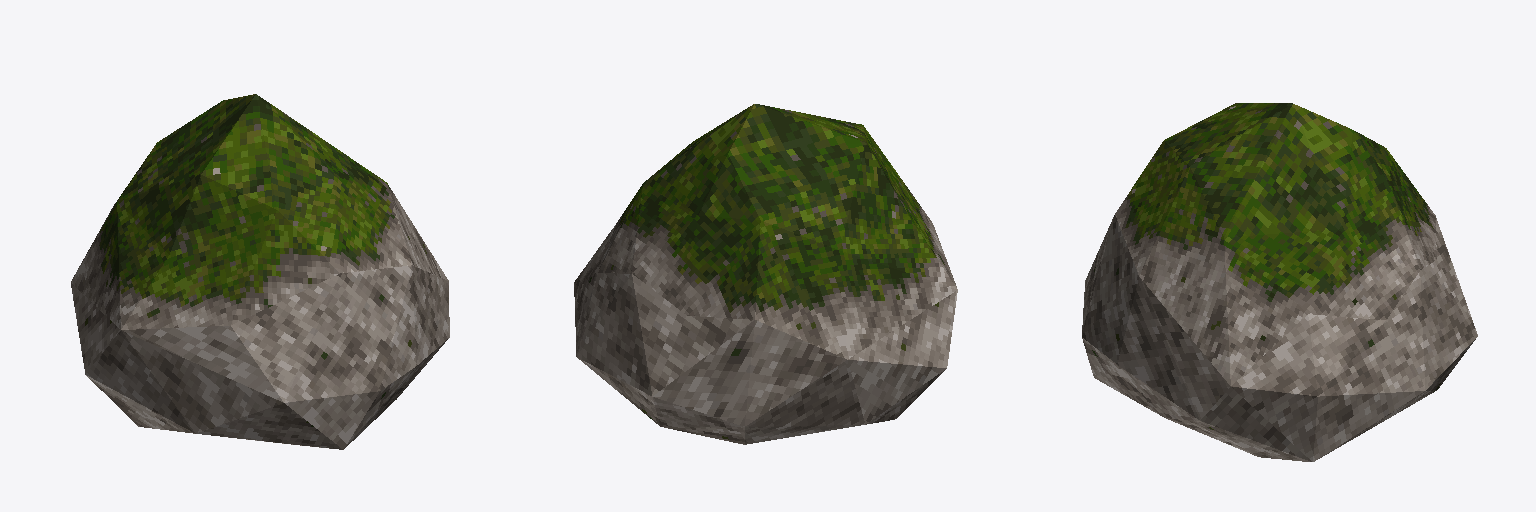
3 renders of one model, left to right at view 1: azimuth 30°, elevation 25°; view 2: azimuth 150°, elevation 25°; view 3: azimuth 270°, elevation 25°, orthographic.
Parts seen in each view (by area): view 1: lboulderswa_0; view 2: lboulderswa_0; view 3: lboulderswa_0.
Part boxes in pixels (x1,y1,x2,y2): lboulderswa_0: (71,94,449,449); lboulderswa_0: (574,104,957,444); lboulderswa_0: (1082,103,1477,461).
Bounding box in the file's own units: 2.39 × 2.03 × 2.35.
Materials: 1 (1 with a texture image).